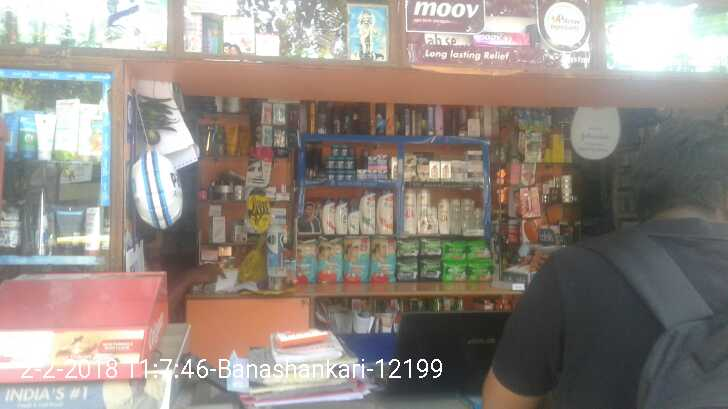beauty: (357, 188, 377, 235), (379, 189, 395, 234), (321, 197, 338, 234), (402, 189, 416, 231), (417, 187, 430, 230), (460, 198, 475, 233), (465, 148, 489, 168), (437, 198, 449, 233), (336, 199, 346, 231), (348, 207, 360, 233), (449, 200, 459, 230), (428, 160, 440, 182), (440, 160, 453, 179)
pharmacy: (341, 237, 369, 285), (319, 236, 343, 286), (371, 237, 395, 281), (294, 239, 317, 282), (465, 262, 490, 286), (442, 239, 466, 263), (395, 259, 419, 283), (419, 237, 442, 262), (421, 257, 442, 284), (465, 239, 490, 261), (395, 236, 419, 258), (442, 265, 468, 284), (322, 156, 356, 170), (330, 144, 351, 158), (366, 166, 378, 183), (379, 152, 392, 167), (377, 166, 387, 181)
